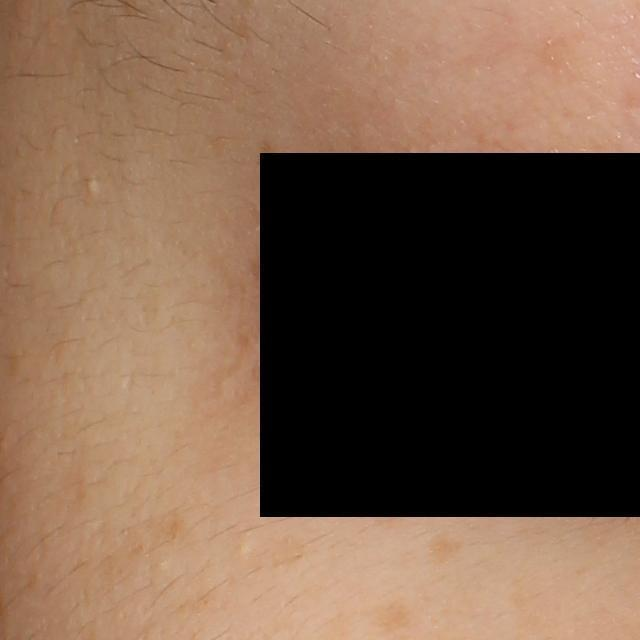comedo: (85, 177, 101, 196)
melasma: (126, 503, 191, 560), (355, 594, 418, 637), (420, 531, 468, 570)
